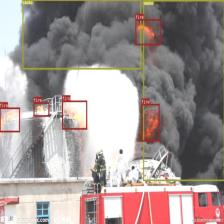fire: (62, 100, 87, 129), (142, 104, 160, 142), (135, 18, 161, 44), (0, 107, 20, 132), (34, 102, 50, 116)
smoke: (143, 0, 224, 181), (22, 0, 141, 69)
